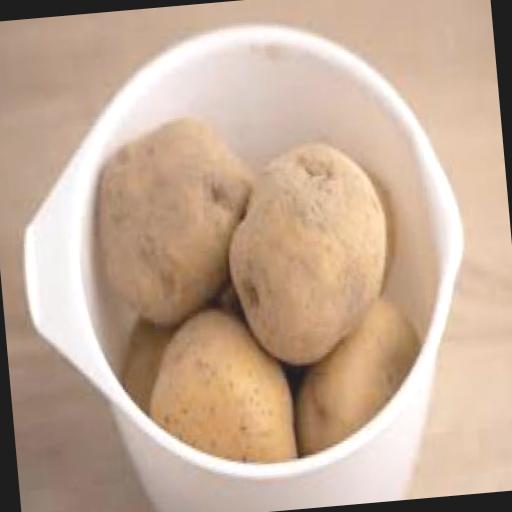biodegradable: (220, 134, 398, 371), (86, 106, 267, 324), (136, 298, 297, 474), (282, 294, 426, 459), (112, 292, 250, 416)
